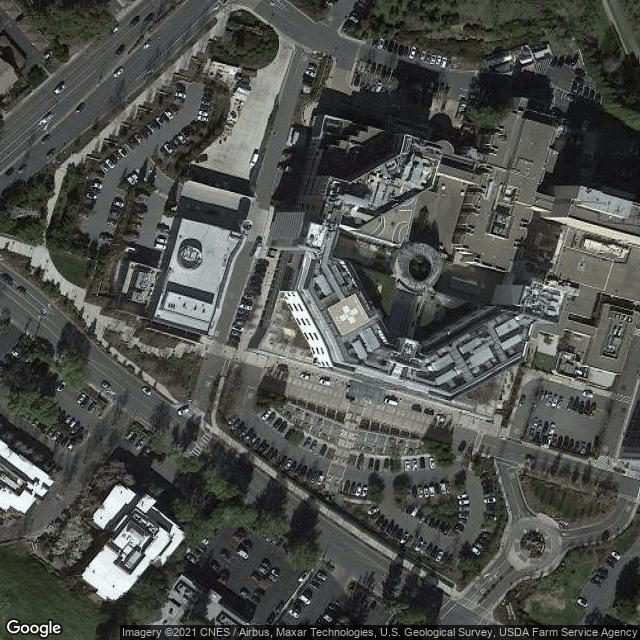Helipad: (328, 293, 370, 334)
